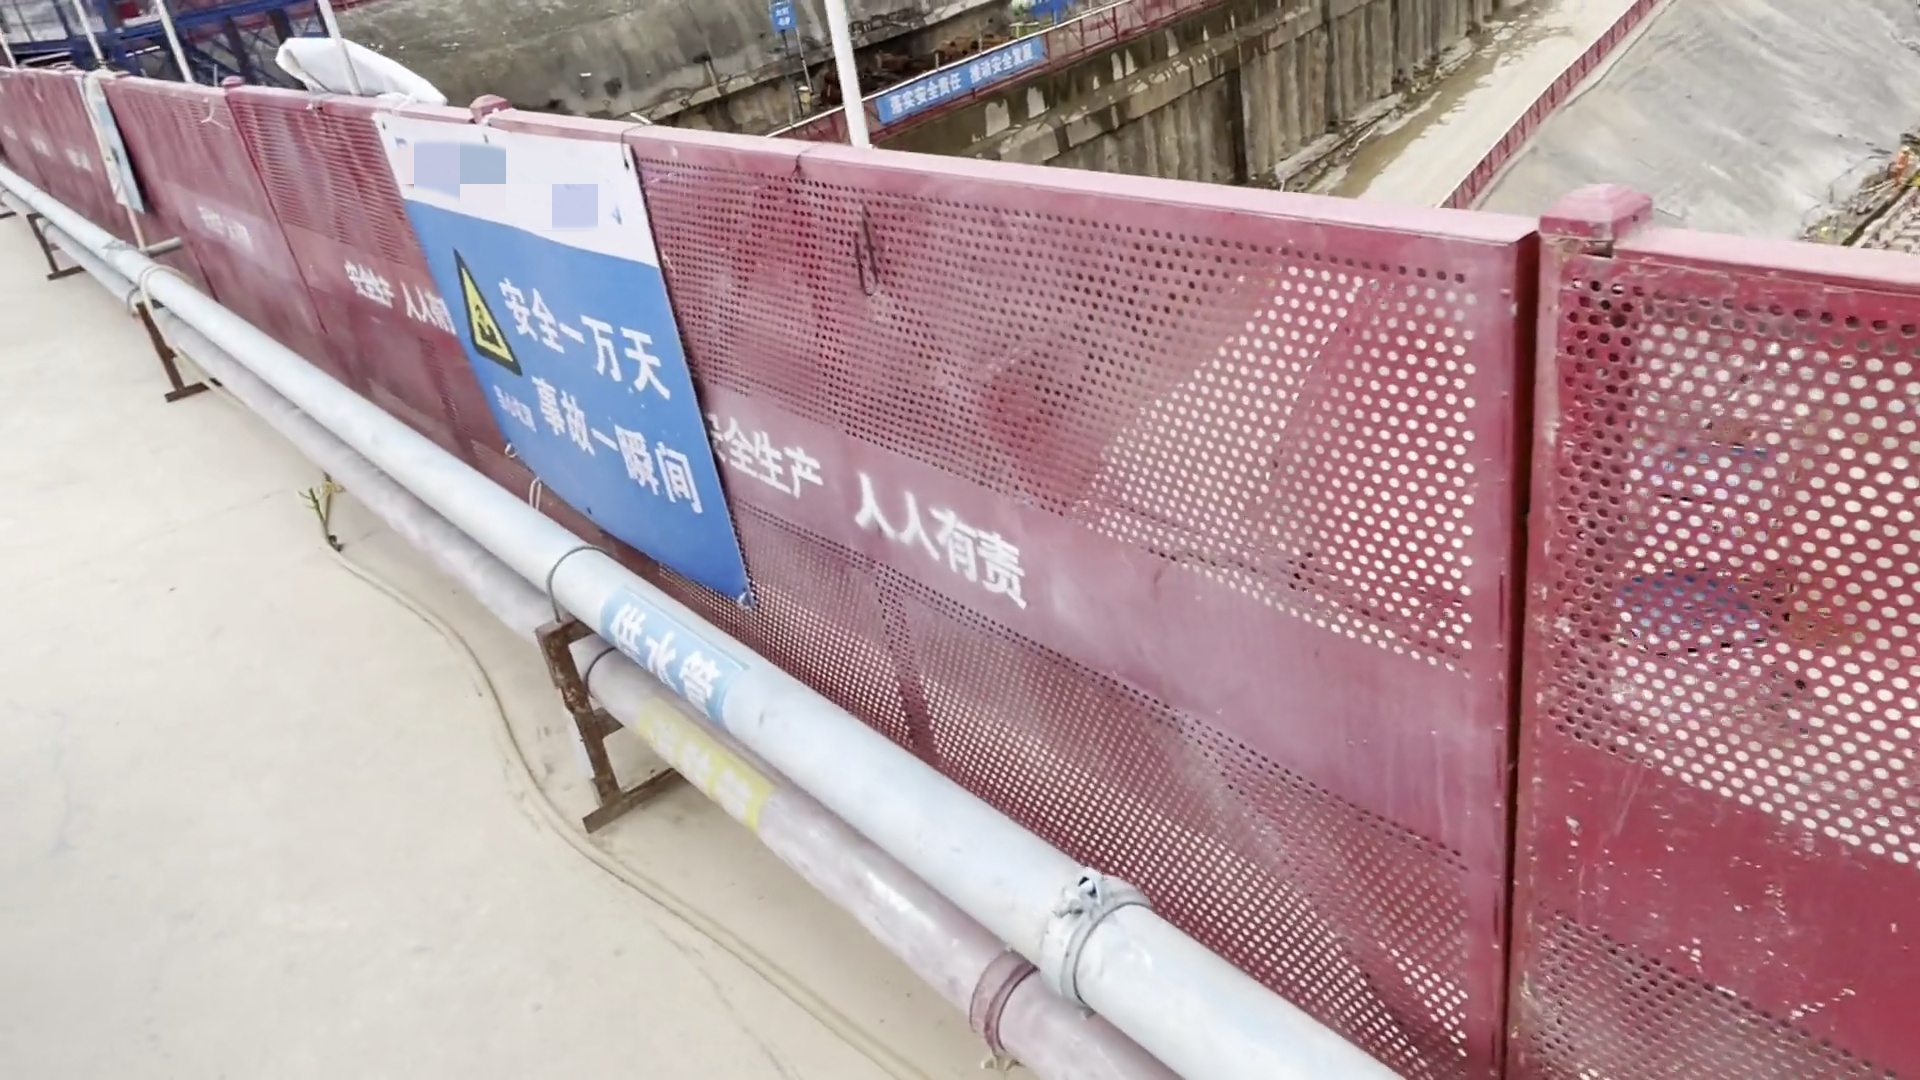fence: (1000, 152, 1920, 1035)
slogan: (373, 108, 762, 618), (870, 30, 1044, 131)
